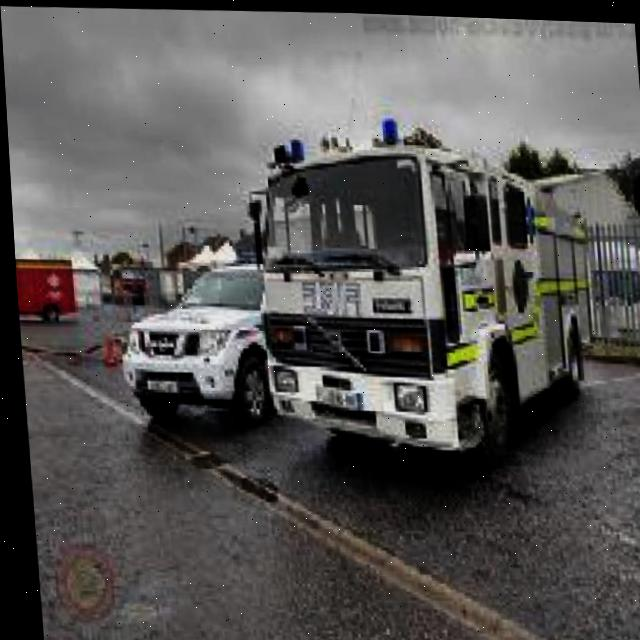emergency: (238, 107, 603, 474), (109, 255, 273, 430), (12, 252, 75, 323)
